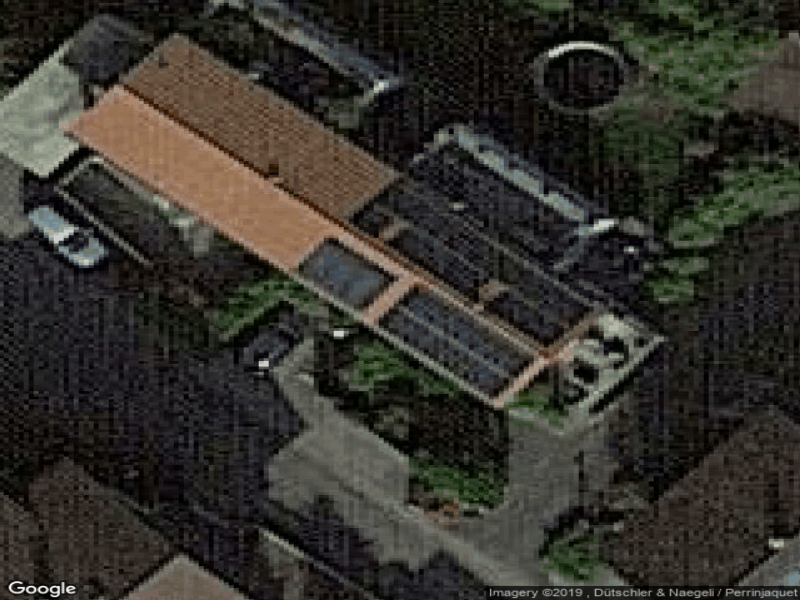pv: (299, 179, 590, 411)
